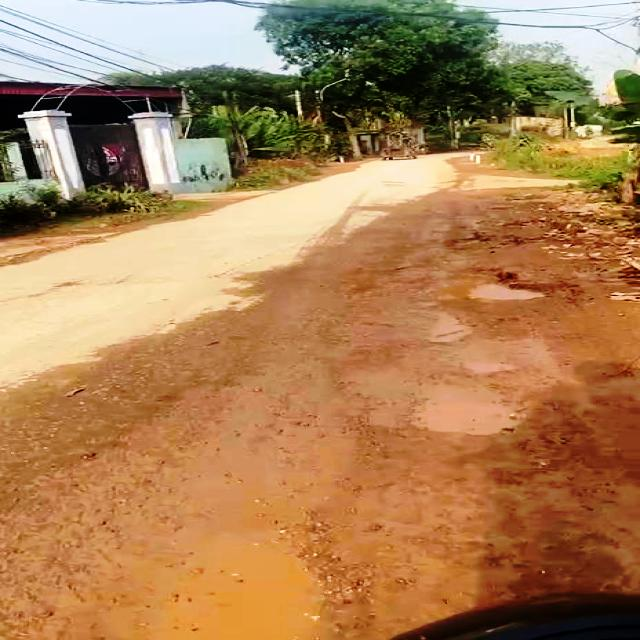pothole: (139, 517, 370, 640), (402, 388, 524, 436), (458, 279, 553, 304), (421, 311, 476, 342), (460, 357, 526, 375)
